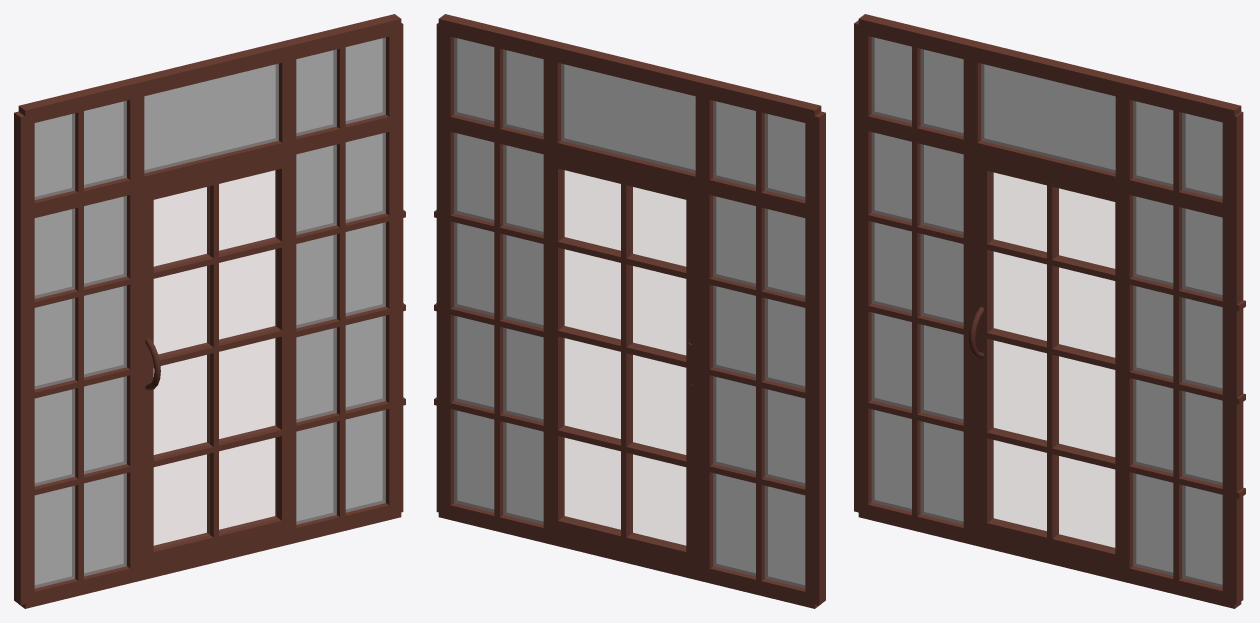
File: Door.fbx
3 views of the same model, side by side, from view 1: azimuth 30°, elevation 25°; view 2: azimuth 150°, elevation 25°; view 3: azimuth 330°, elevation 25° (orthographic).
Visible parts, largest first — view 1: pCube107, pCube106; view 2: pCube107, pCube106; view 3: pCube107, pCube106.
Boxes of the visible parts, box(x1,y1,x2,y2) form: pCube107: box(14, 14, 405, 608); pCube106: box(139, 153, 296, 572); pCube107: box(434, 14, 825, 608); pCube106: box(543, 151, 700, 572); pCube107: box(854, 14, 1245, 608); pCube106: box(969, 153, 1129, 574).
Size of the model in its own units: 16.86 by 20.83 by 1.41.
